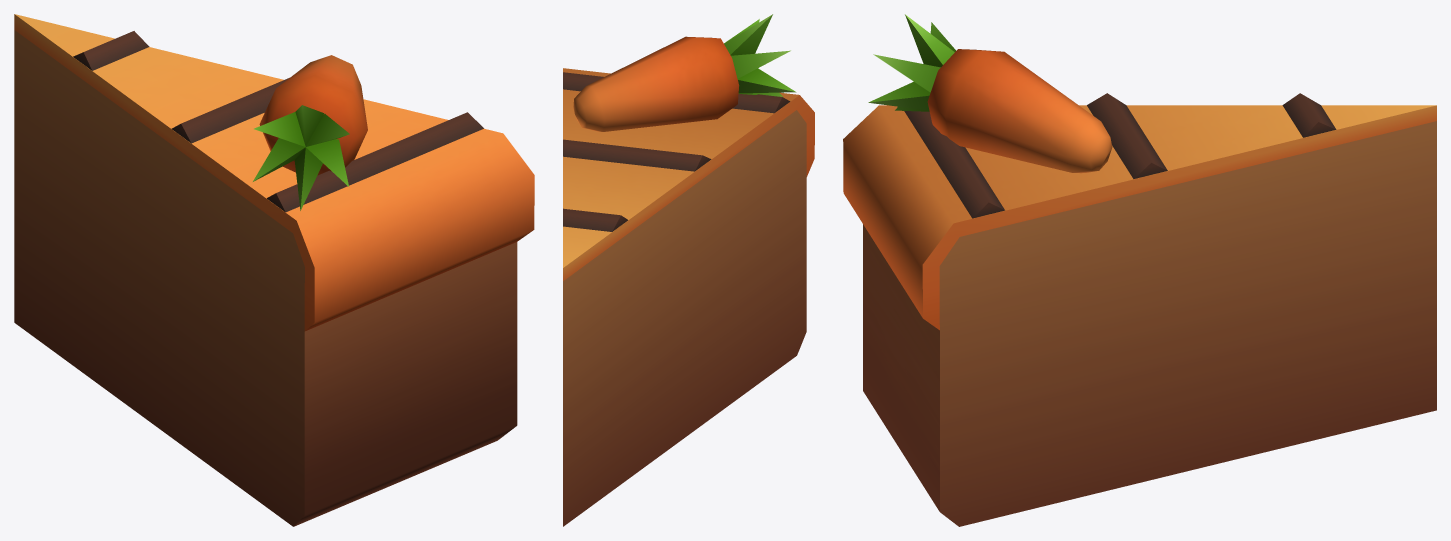
The model's file is m_CarrotCake01_Slice01.fbx.
3 renders of one model, left to right at view 1: azimuth 30°, elevation 25°; view 2: azimuth 150°, elevation 25°; view 3: azimuth 270°, elevation 25°, orthographic. The views are drawn at different scales.
Visible parts, largest first — view 1: m_CarrotCake01_Slice01; view 2: m_CarrotCake01_Slice01; view 3: m_CarrotCake01_Slice01.
Part boxes in pixels (box(x1,y1,x2,y2)): m_CarrotCake01_Slice01: box(14, 14, 534, 526); m_CarrotCake01_Slice01: box(563, 14, 814, 526); m_CarrotCake01_Slice01: box(843, 14, 1436, 526).
Bounding box in the file's own units: 7.81 × 10.91 × 14.48.
